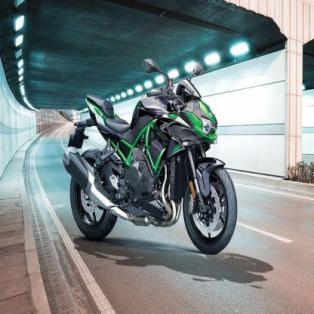Motocicleta: (54, 52, 240, 257)
